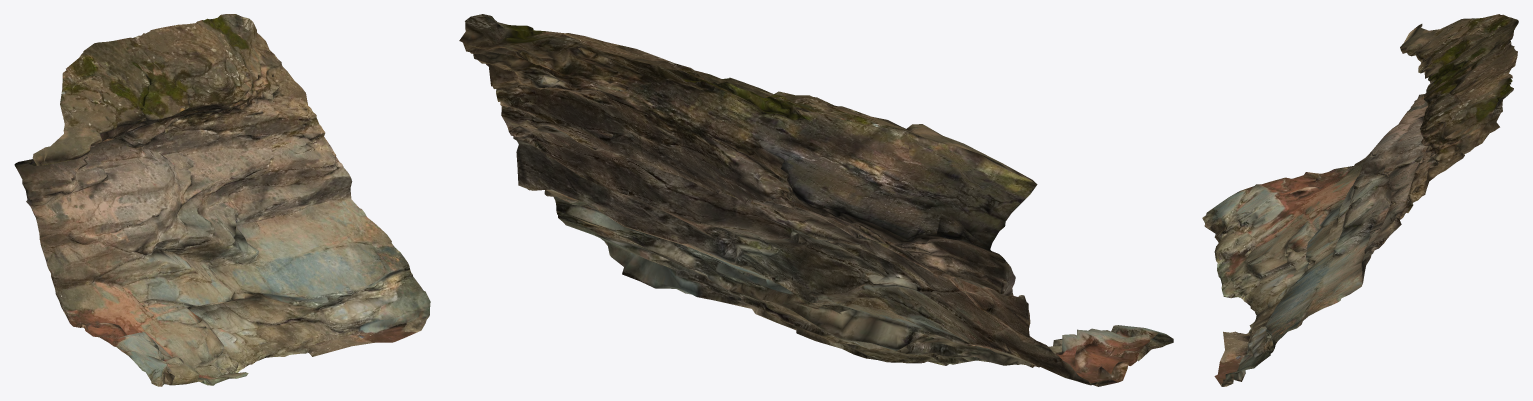
Rendered from ph-rock_face_01.glb.
3 renders of one model, left to right at view 1: azimuth 30°, elevation 25°; view 2: azimuth 150°, elevation 25°; view 3: azimuth 270°, elevation 25°, orthographic. The views are drawn at different scales.
Parts seen in each view (by area): view 1: rock_face_01; view 2: rock_face_01; view 3: rock_face_01.
Part boxes in pixels (x1,y1,x2,y2): rock_face_01: [14, 14, 430, 386]; rock_face_01: [459, 14, 1173, 386]; rock_face_01: [1202, 14, 1518, 386].
Size of the model in its own units: 4.95 by 3.56 by 3.82.
1 material, 1 textured.
